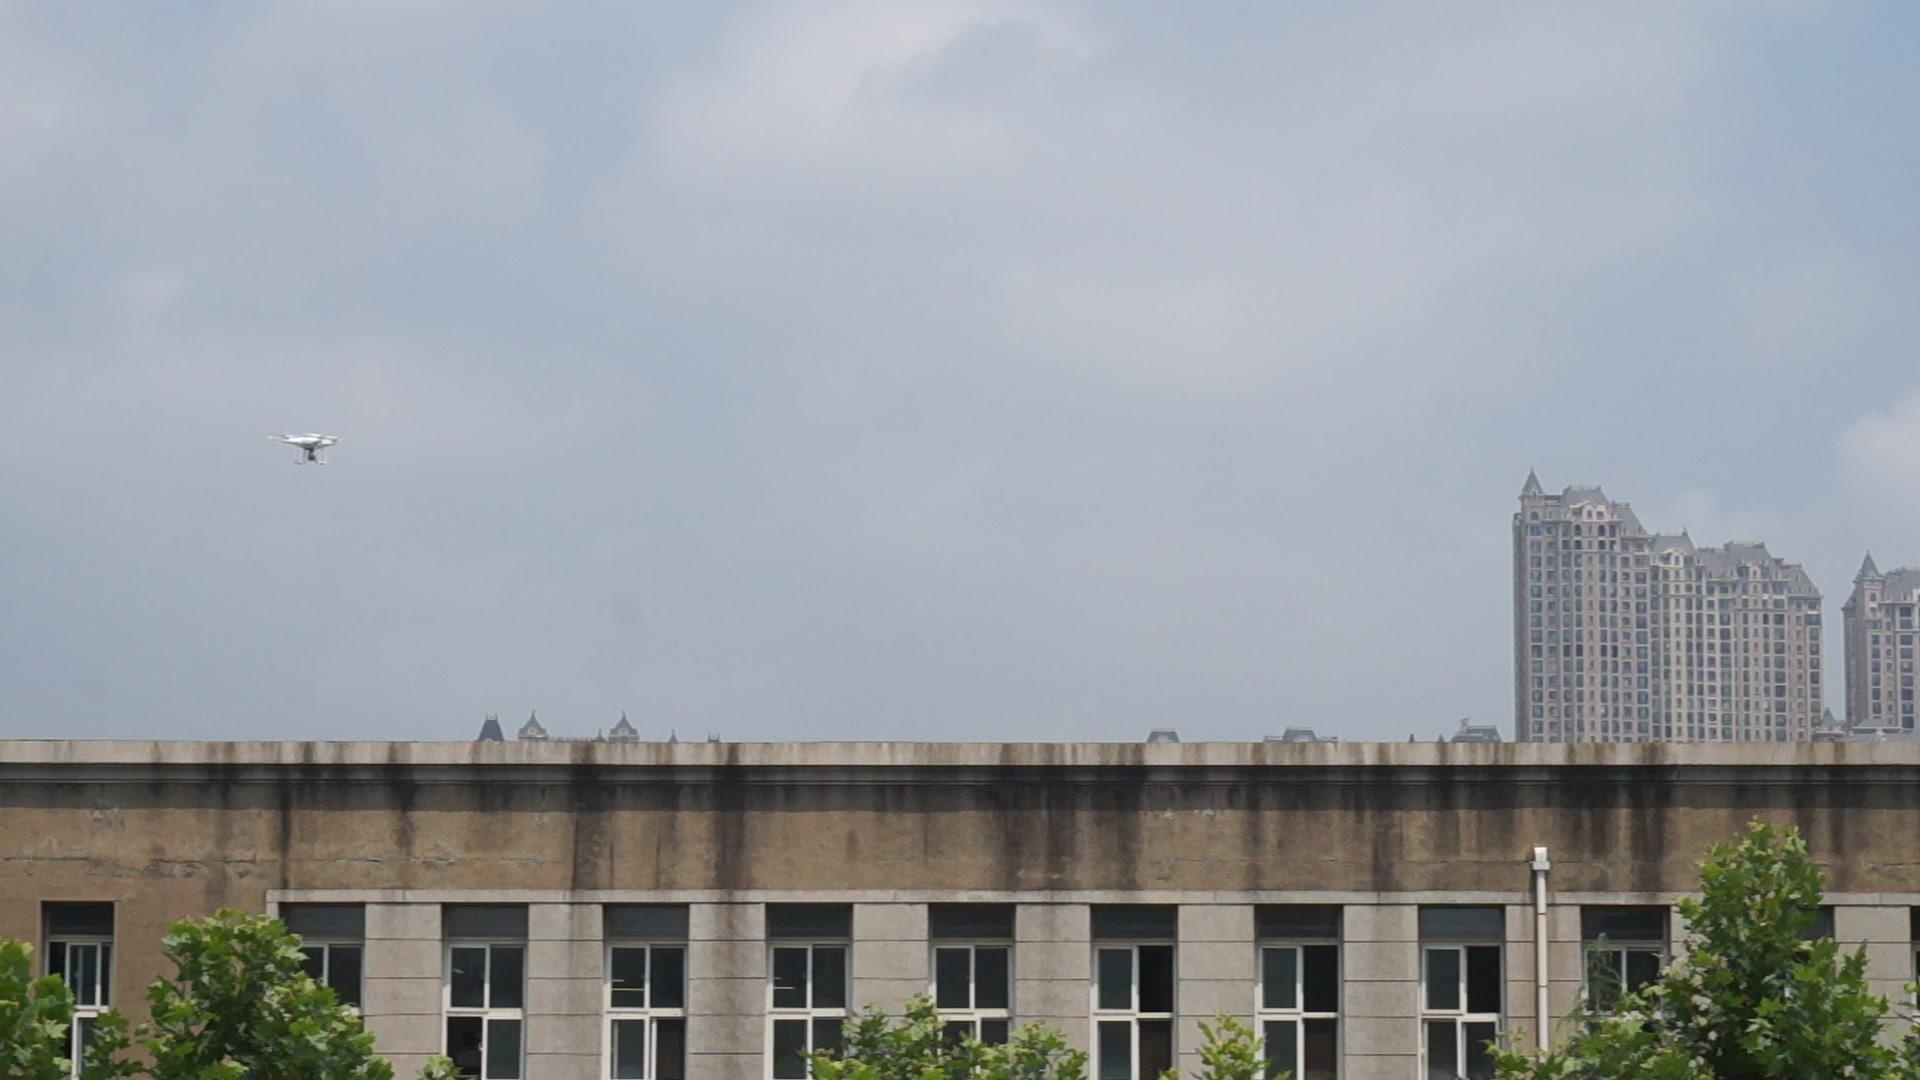UAV: (266, 433, 339, 465)
